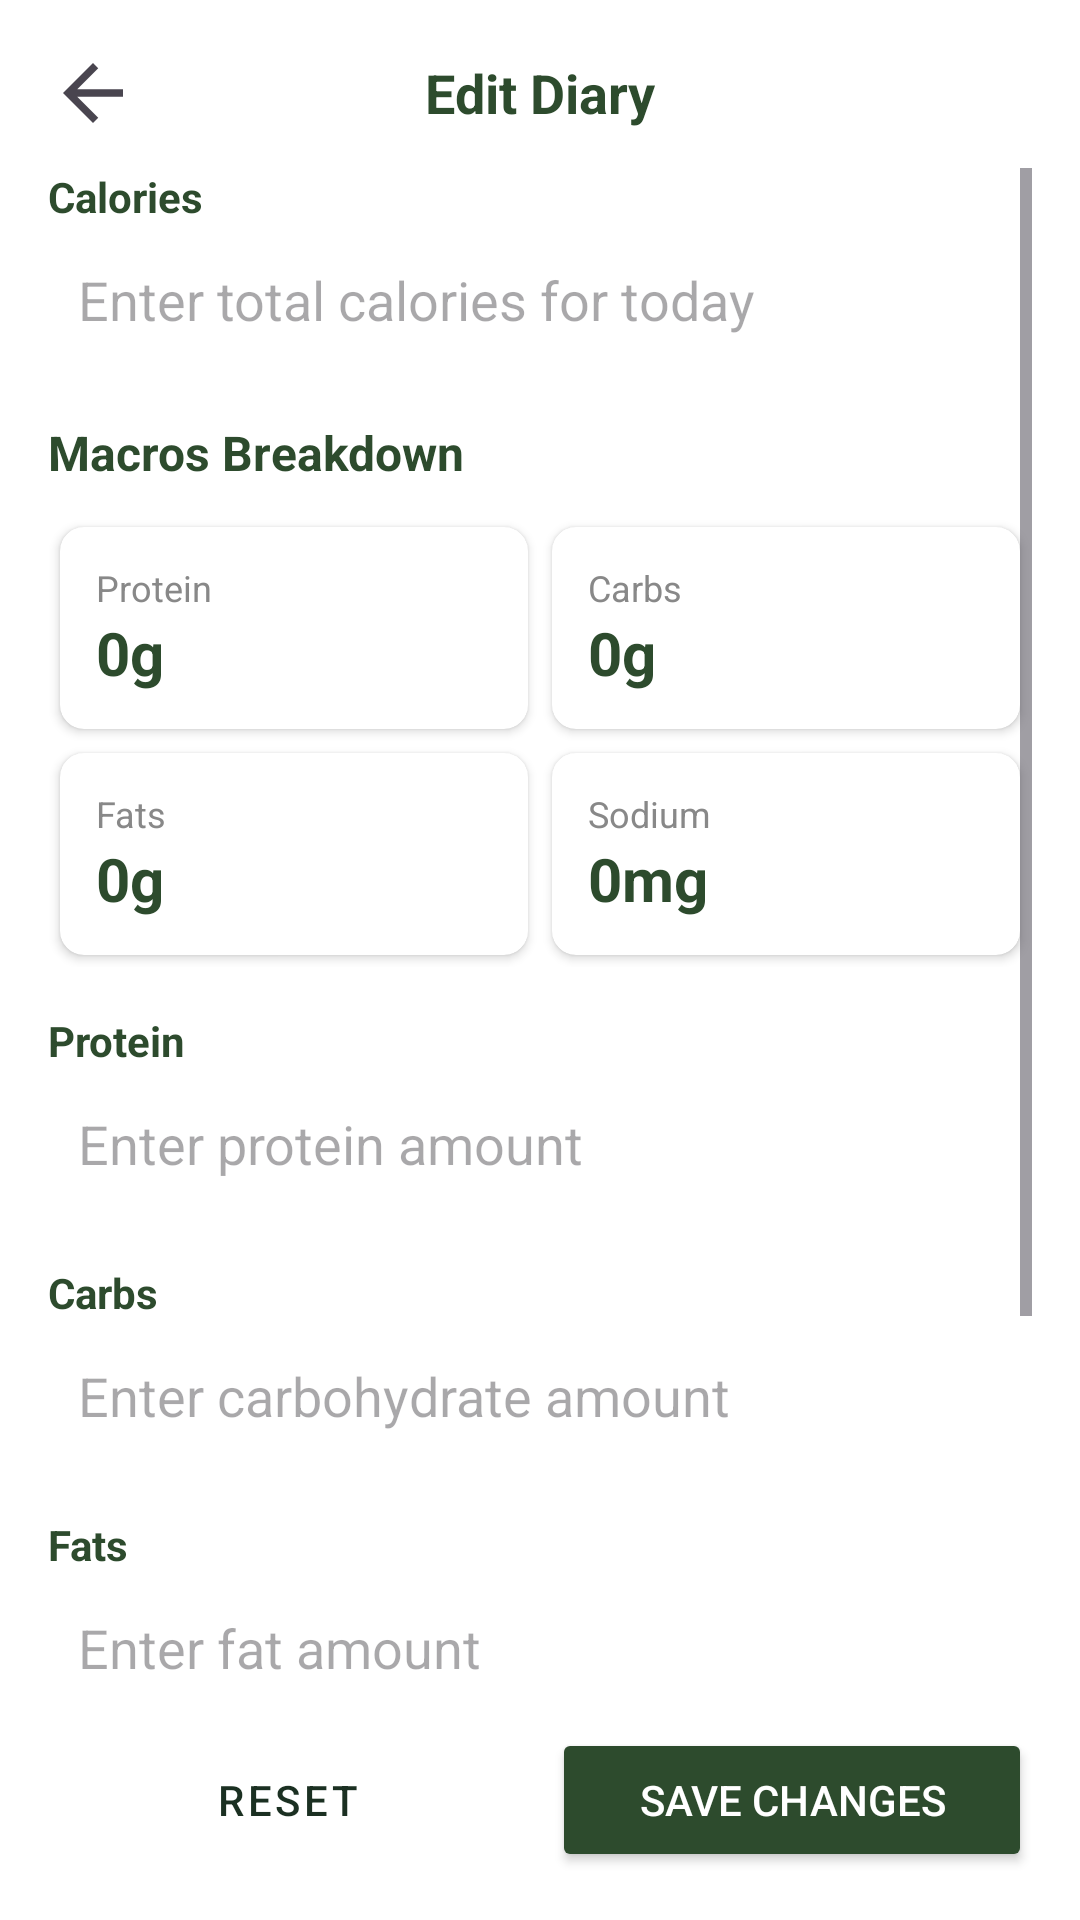

Screen size 1080w x 1920h. Icon name, then its center in pixels as (x=x, y=y):
ab back: (x=93, y=93)
